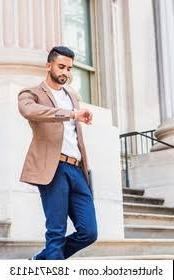Human: (14, 40, 104, 272)
